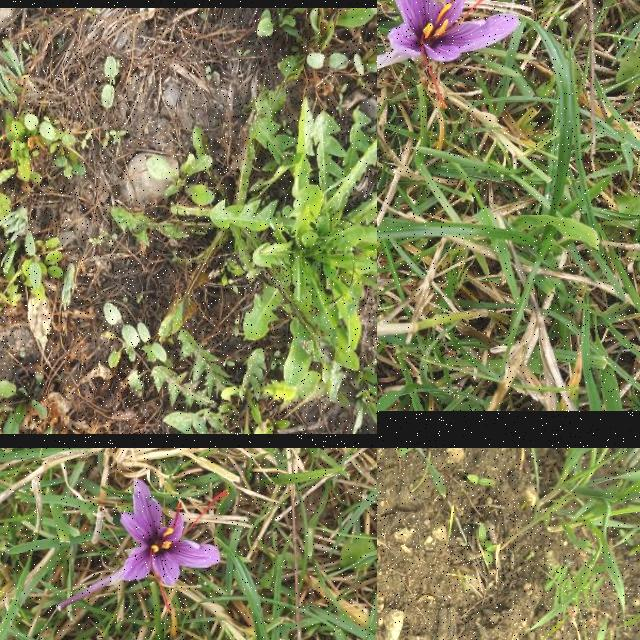flower: (119, 478, 229, 614), (387, 0, 520, 107)
